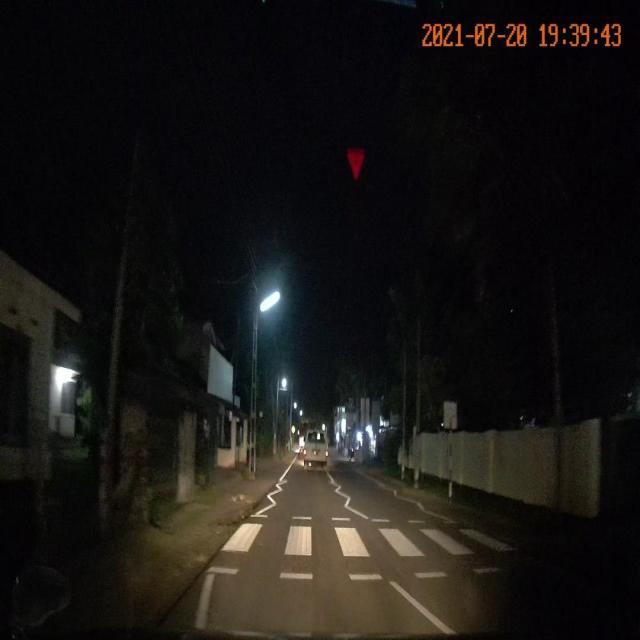Crosswalk: (200, 512, 516, 587)
